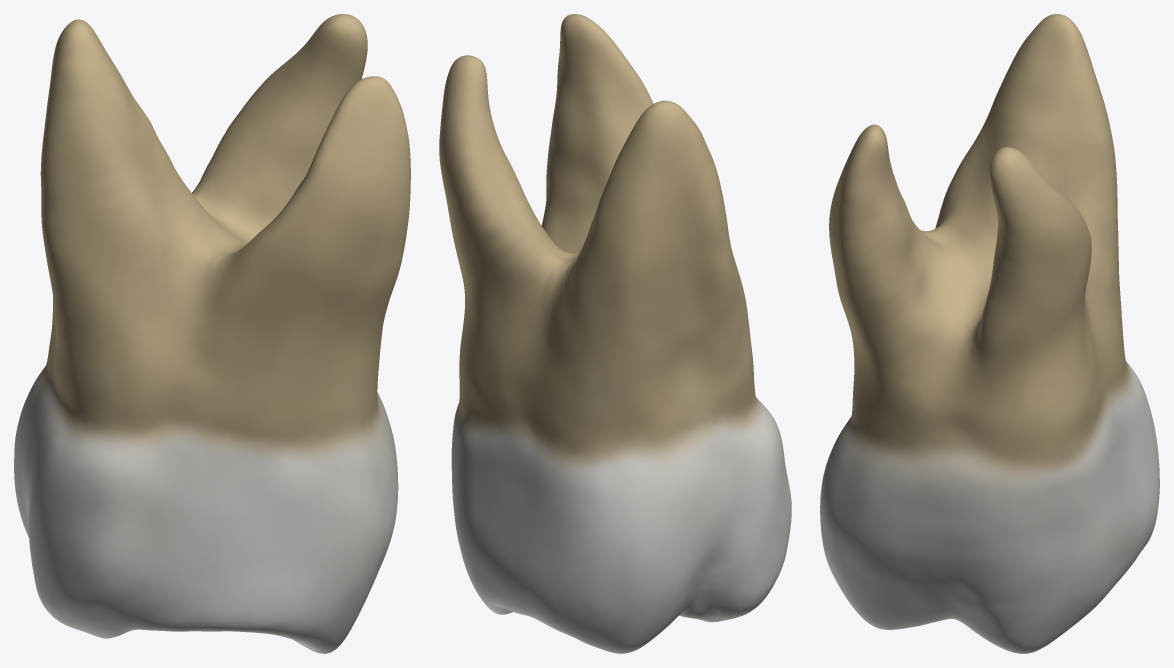
3 renders of one model, left to right at view 1: azimuth 30°, elevation 25°; view 2: azimuth 150°, elevation 25°; view 3: azimuth 270°, elevation 25°, orthographic. The views are drawn at different scales.
Parts seen in each view (by area): view 1: Object_2; view 2: Object_2; view 3: Object_2.
Boxes of the visible parts, x1,y1,x2,y2 form: Object_2: (14,14,410,653); Object_2: (439,14,791,653); Object_2: (820,14,1159,653).
Bounding box in the file's own units: 0.4533 × 0.7784 × 0.4332.
Materials: 1 (1 with a texture image).
